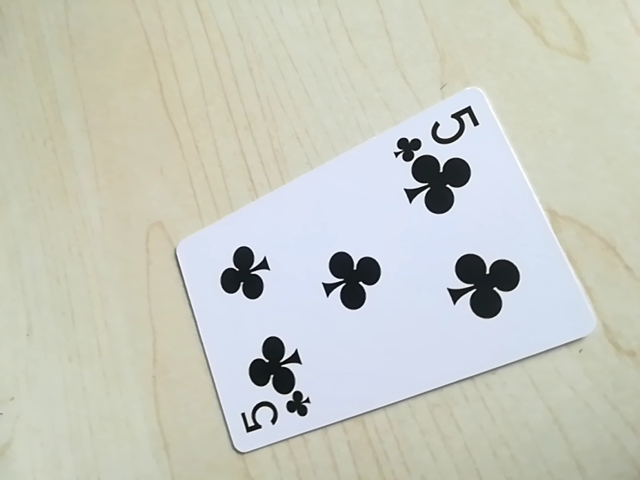mh 5: (394, 101, 482, 158), (234, 390, 311, 444)
